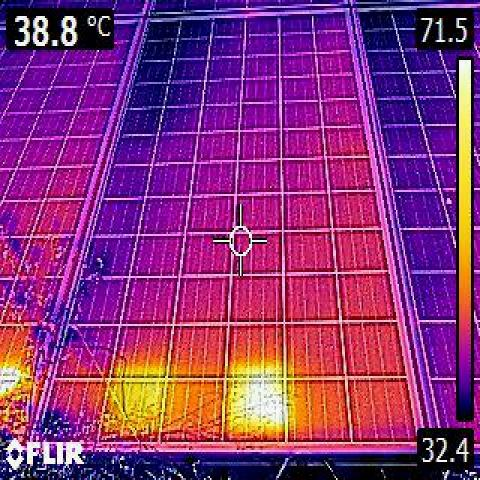fault: (230, 385, 284, 441), (109, 371, 156, 421)
